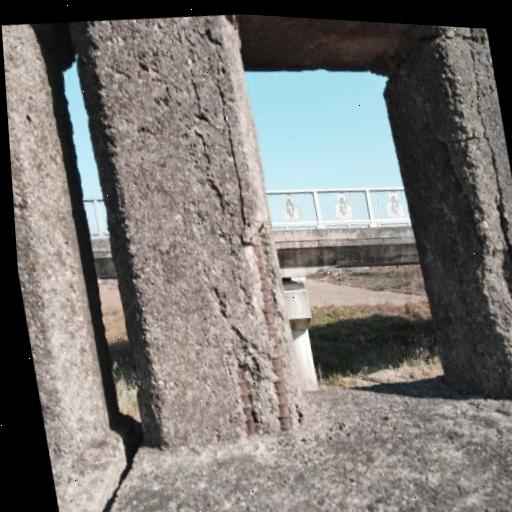exposed_rebar: (253, 241, 291, 430), (236, 366, 256, 435)
